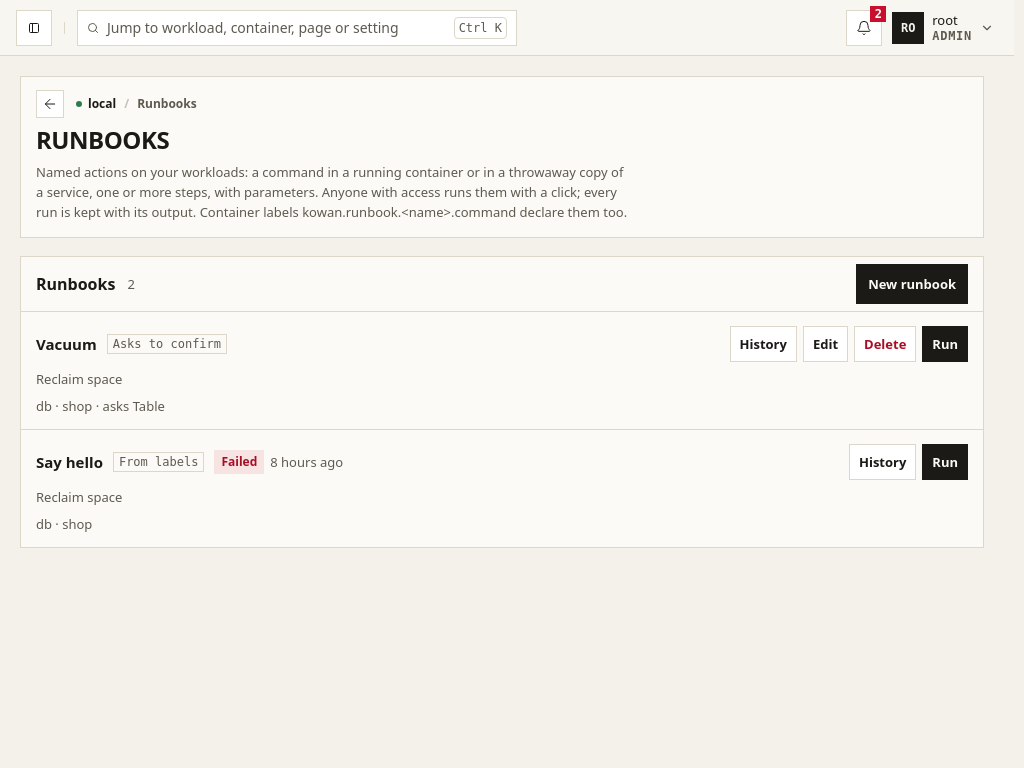
runbooks › lists every runbook on its page, label ones read-only, with their history
Expected: the text "Say hello" is shown, [36,452,103,472]
Expected: the text "From labels" is shown, [113,452,204,472]
Click the button with aria-label "History of Say hello" at [883, 462], box [849,444,916,480]
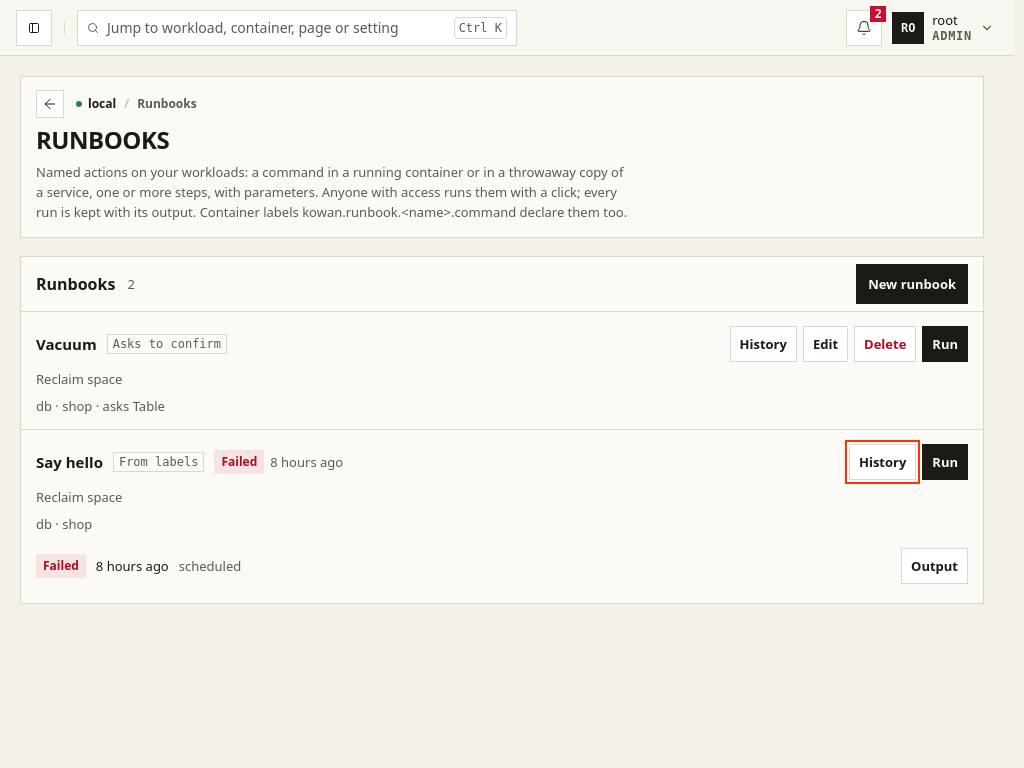
Expected: the text "scheduled" is shown, [179,556,241,576]
